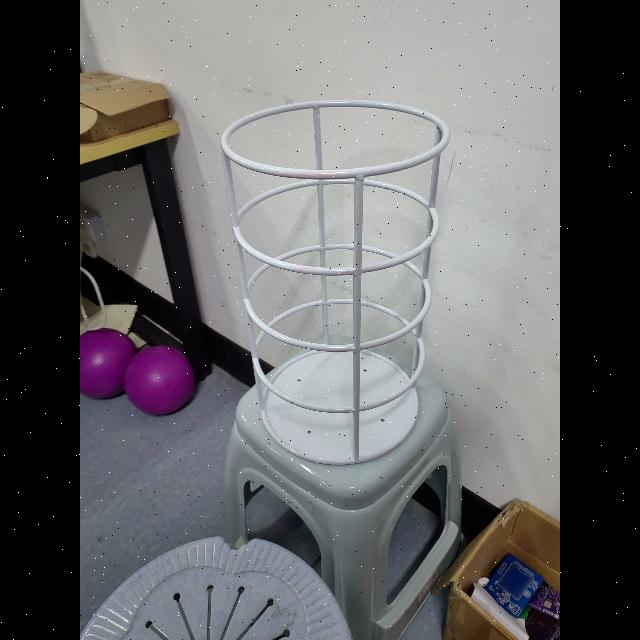S: (218, 97, 456, 473)
